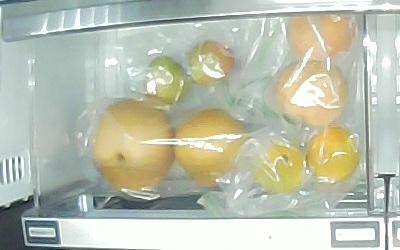peach_vinyl: (276, 58, 348, 127)
pear_vinyl: (92, 99, 176, 193), (174, 108, 249, 188)
tangerine_vinyl: (307, 126, 359, 182), (254, 144, 306, 195), (188, 40, 237, 84), (145, 55, 187, 104)
